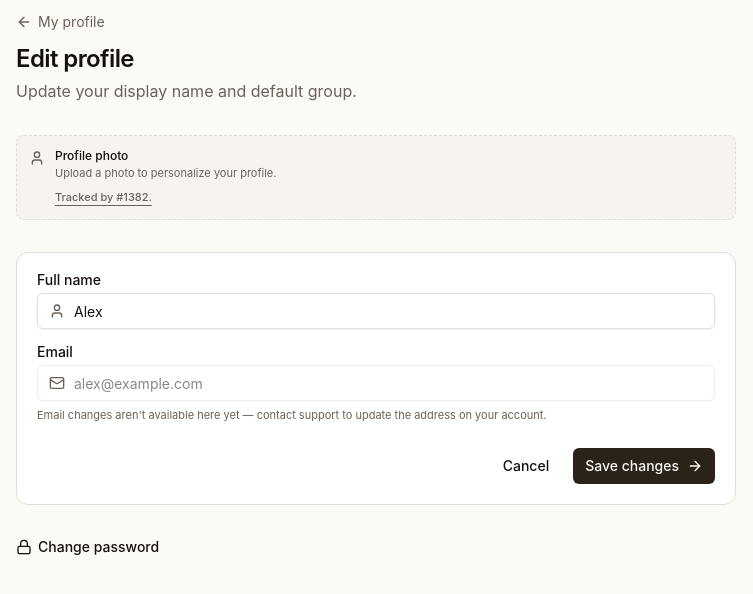
<EditProfilePage /> › validates name is required and ≤255 chars
Clear the field with test id "profile-name-input" at (376, 311), box [37, 293, 715, 329]
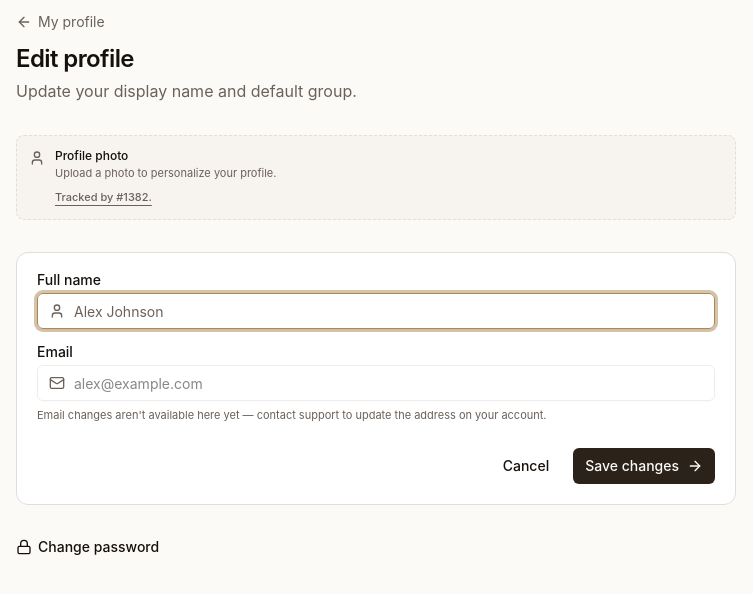
Click the button with test id "profile-save" at (644, 466), box [573, 448, 715, 484]
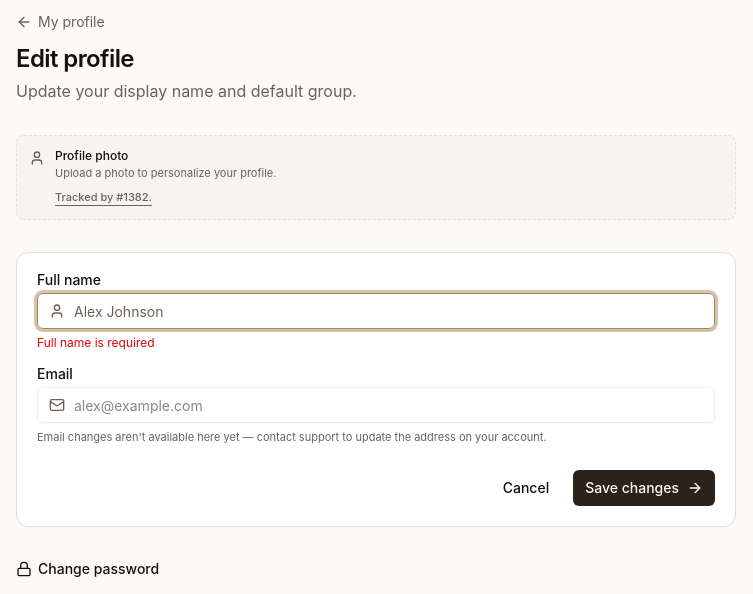
Now the text "Full name is required" is shown, box [37, 335, 155, 350]
